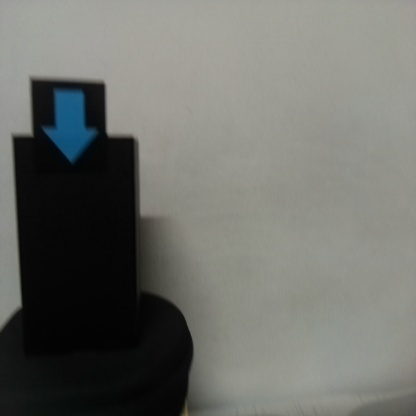id_2: (30, 79, 107, 178)
